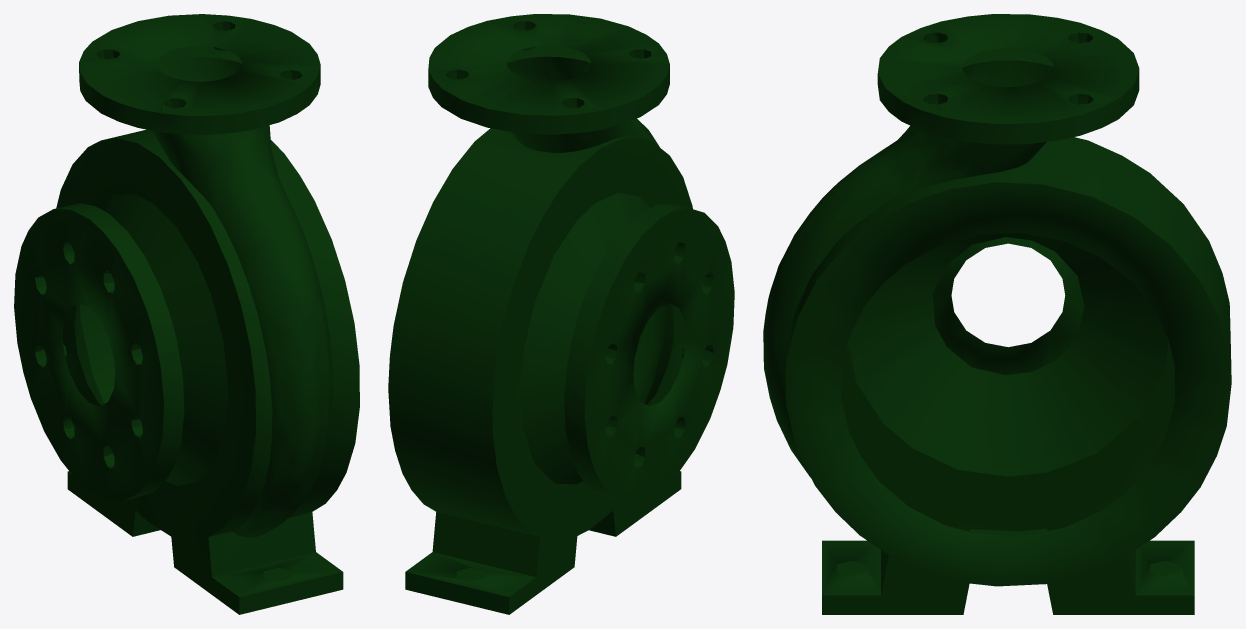
File: Kreiselpumpe_Spiralgehause_test.obj
3 renders of one model, left to right at view 1: azimuth 30°, elevation 25°; view 2: azimuth 150°, elevation 25°; view 3: azimuth 270°, elevation 25°, orthographic. The views are drawn at different scales.
Parts seen in each view (by area): view 1: Gehäuse_Einfach_Spirale2; view 2: Gehäuse_Einfach_Spirale2; view 3: Gehäuse_Einfach_Spirale2.
Part boxes in pixels (x1=…): Gehäuse_Einfach_Spirale2: x1=14, y1=14, x2=359, y2=614; Gehäuse_Einfach_Spirale2: x1=388, y1=14, x2=734, y2=614; Gehäuse_Einfach_Spirale2: x1=763, y1=14, x2=1231, y2=614.
Size of the model in its own units: 0.1903 by 0.4035 by 0.3314.
